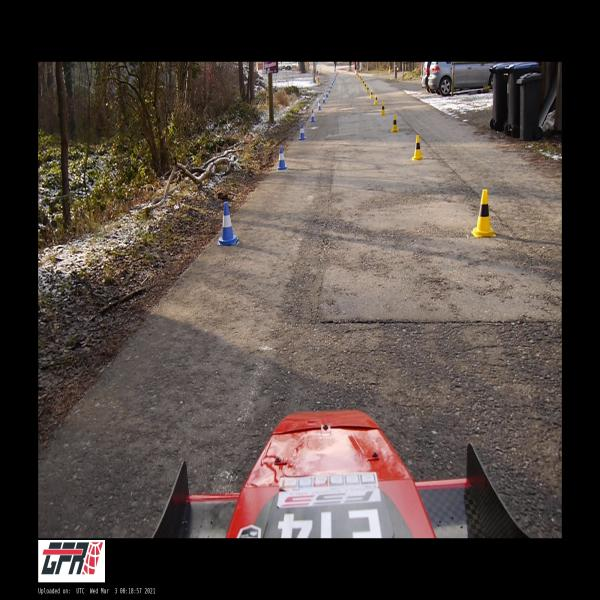blue_cone: (217, 202, 238, 245), (278, 147, 287, 170), (299, 124, 306, 140), (310, 110, 315, 121), (323, 94, 326, 104), (318, 101, 321, 110), (328, 87, 331, 93), (326, 91, 328, 98)
yellow_cone: (472, 189, 495, 236), (413, 135, 423, 160), (392, 114, 398, 132), (381, 102, 385, 115), (374, 94, 378, 104), (370, 90, 373, 98), (367, 86, 369, 92), (364, 83, 366, 89)
